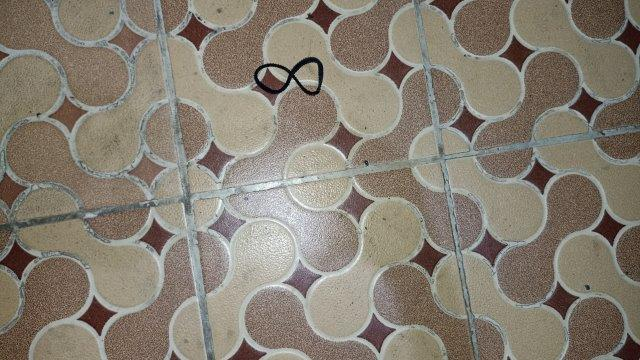karet: (254, 58, 323, 95)
